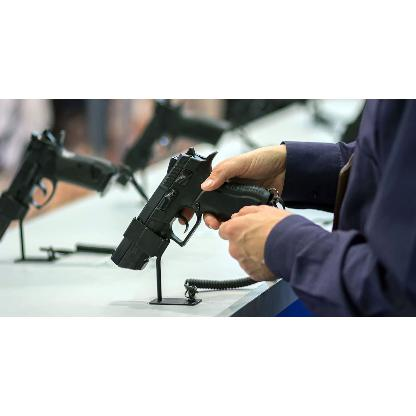gun: (108, 148, 286, 272), (0, 127, 107, 223), (114, 100, 228, 178)
